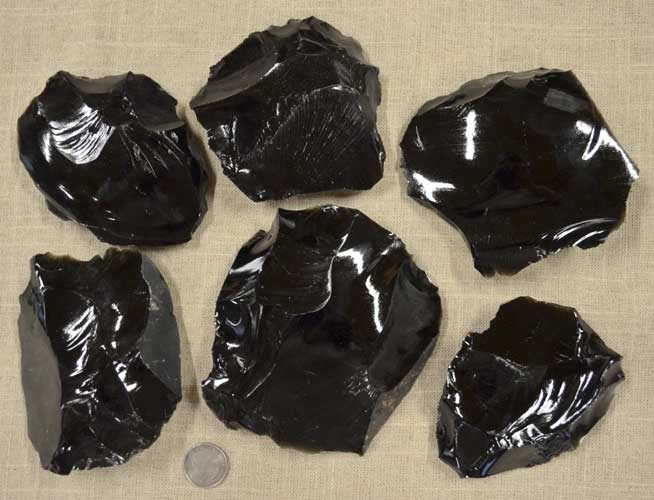Obsidian: (397, 64, 648, 280), (16, 244, 184, 475), (188, 13, 388, 201), (433, 294, 625, 483)
